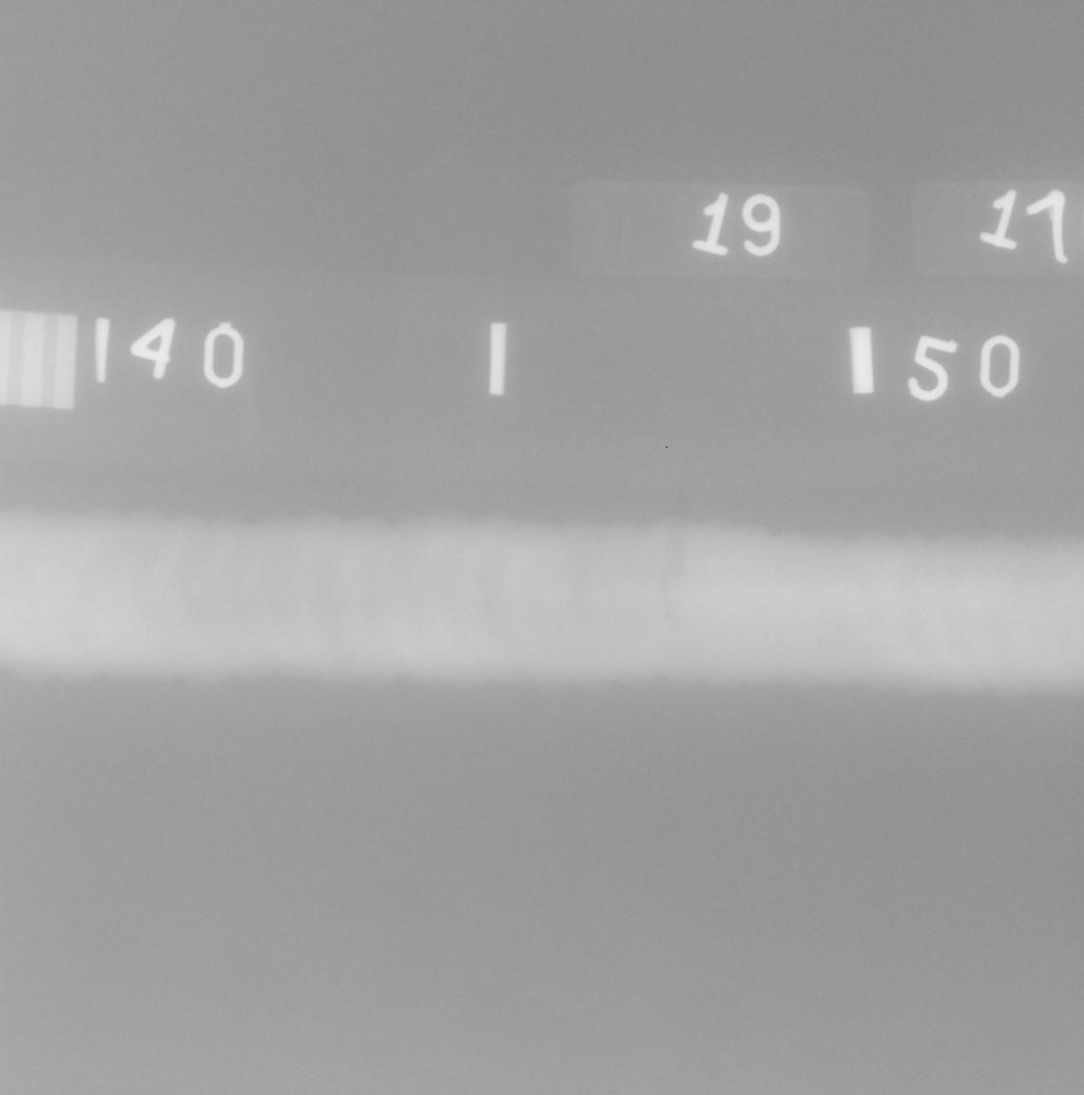Pore/Porosity: (666, 614, 671, 617)
